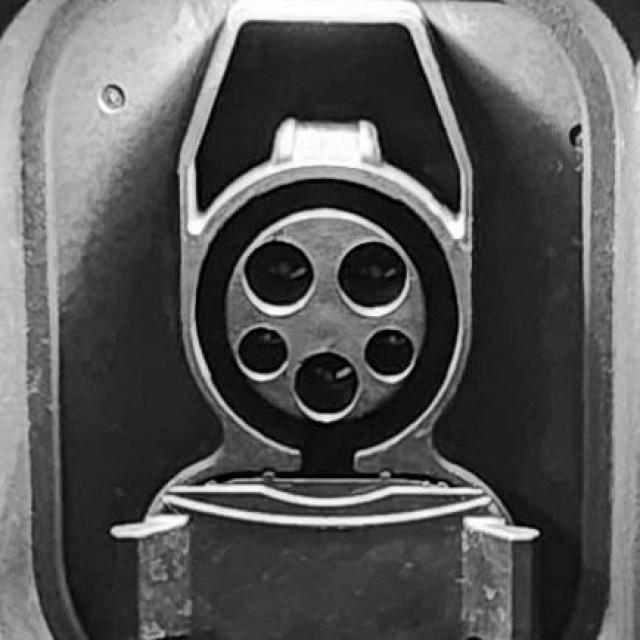Type 1: (202, 206, 444, 436)
